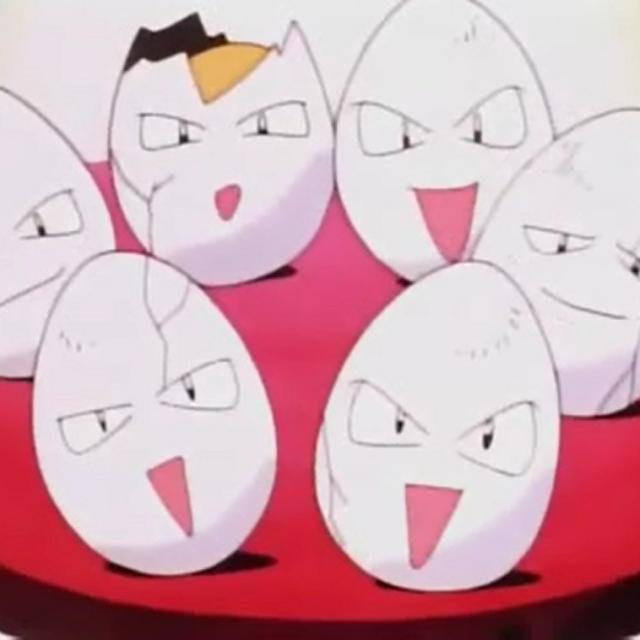Exeggcute: (3, 12, 640, 586)
